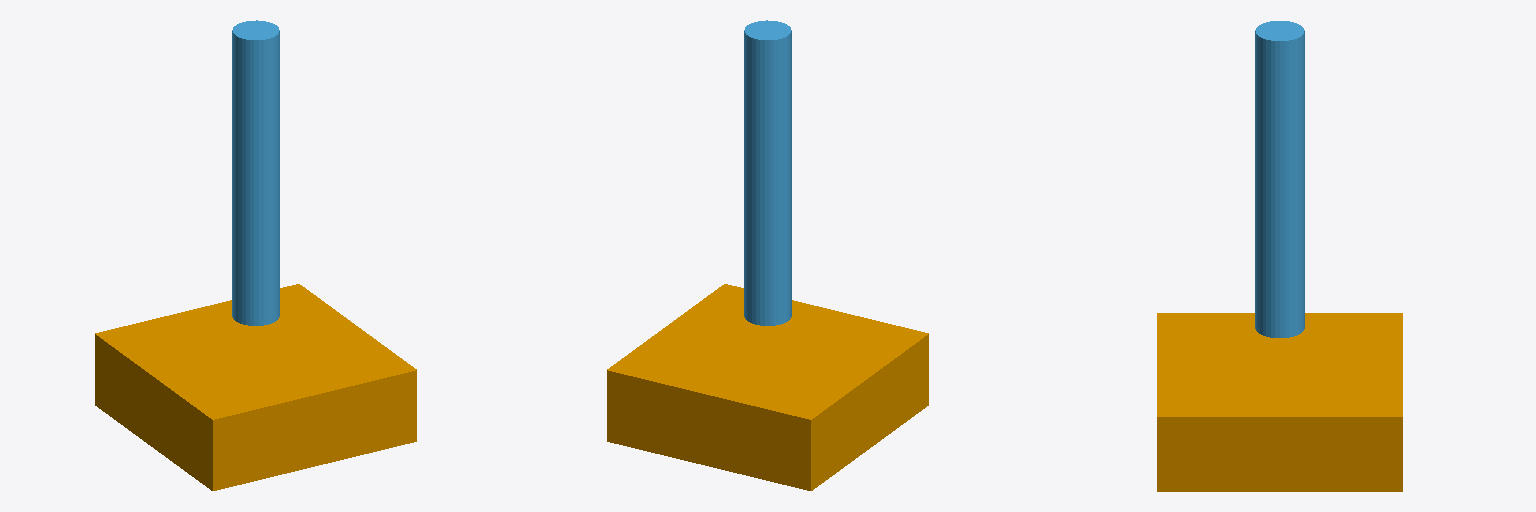
The robot description file, URDF, robot "simple_arm":
<?xml version="1.0"?>
<robot name="simple_arm">

  <!-- 링크: 몸통 -->
  <link name="base_link">
    <visual>
      <geometry><box size="0.3 0.3 0.1"/></geometry>
    </visual>
  </link>

  <!-- 링크: 팔 -->
  <link name="arm_link">
    <visual>
      <geometry><cylinder radius="0.03" length="0.4"/></geometry>
    </visual>
  </link>

  <!-- 조인트: 몸통과 팔을 잇는 회전 관절 -->
  <joint name="shoulder" type="revolute">
    <parent link="base_link"/>
    <child  link="arm_link"/>
    <origin xyz="0 0 0.3" rpy="0 0 0"/>   <!-- 팔이 몸통에서 0.3m 위 -->
    <axis xyz="0 1 0"/>                    <!-- y축을 중심으로 회전 -->
    <limit lower="-1.57" upper="1.57" effort="10" velocity="1.0"/>
  </joint>

</robot>

--- What the picture shows (computed from the rendered views, not written in the file) ---
Views: 3 orthographic renders of the robot side by side, from view 1: azimuth 30°, elevation 25°; view 2: azimuth 150°, elevation 25°; view 3: azimuth 270°, elevation 25°.
Model simple_arm with 2 links and 1 joints (1 revolute), rooted at base_link, posed every joint at zero.
Visible links, largest first — view 1: base_link, arm_link; view 2: base_link, arm_link; view 3: base_link, arm_link.
Boxes of the visible links, box(x1,y1,x2,y2) form: base_link: box(95, 284, 416, 490); arm_link: box(232, 20, 279, 325); base_link: box(607, 284, 928, 490); arm_link: box(744, 20, 791, 325); base_link: box(1157, 313, 1402, 491); arm_link: box(1255, 21, 1304, 337).
Bounding box of the posed robot: 0.3 × 0.3 × 0.55 m (x, y, z).
Geometry: primitives only (box / cylinder / sphere), no mesh files.
